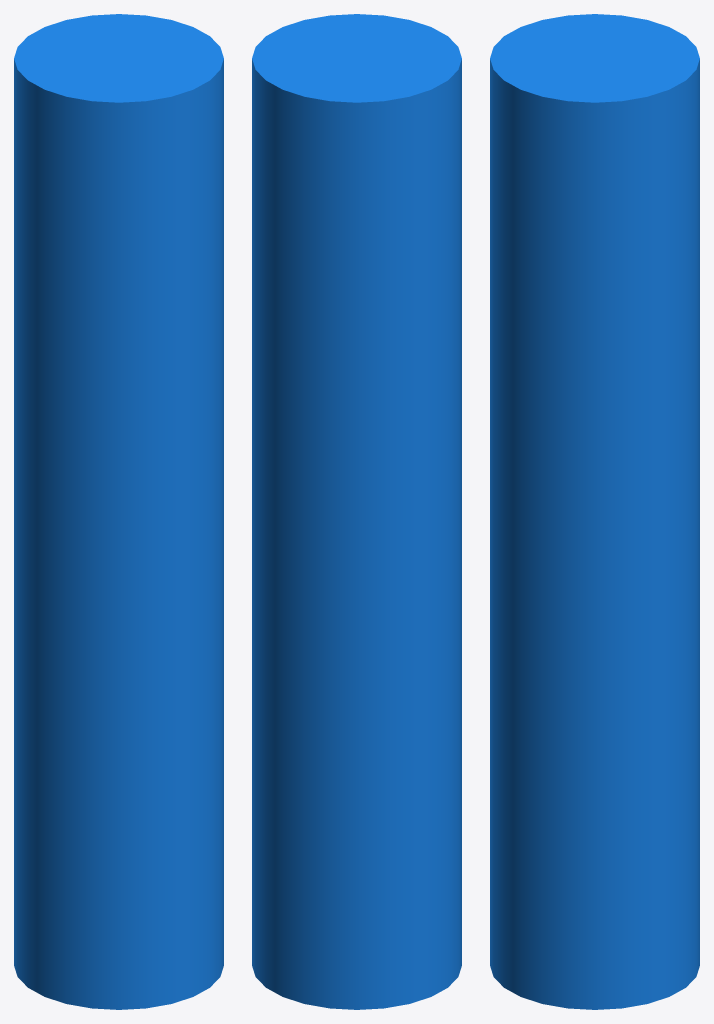
The model's file is original-13.obj.
3 views of the same model, side by side, from view 1: azimuth 30°, elevation 25°; view 2: azimuth 150°, elevation 25°; view 3: azimuth 270°, elevation 25° (orthographic).
Visible parts, largest first — view 1: instance_0/Component_51/ID106#ID106; view 2: instance_0/Component_51/ID106#ID106; view 3: instance_0/Component_51/ID106#ID106.
Boxes of the visible parts, left/top/right/bottom form: instance_0/Component_51/ID106#ID106: left=14, top=14, right=223, bottom=1009; instance_0/Component_51/ID106#ID106: left=252, top=14, right=461, bottom=1009; instance_0/Component_51/ID106#ID106: left=490, top=14, right=699, bottom=1009.
Bounding box in the file's own units: 0.0281 × 0.134 × 0.0281.
